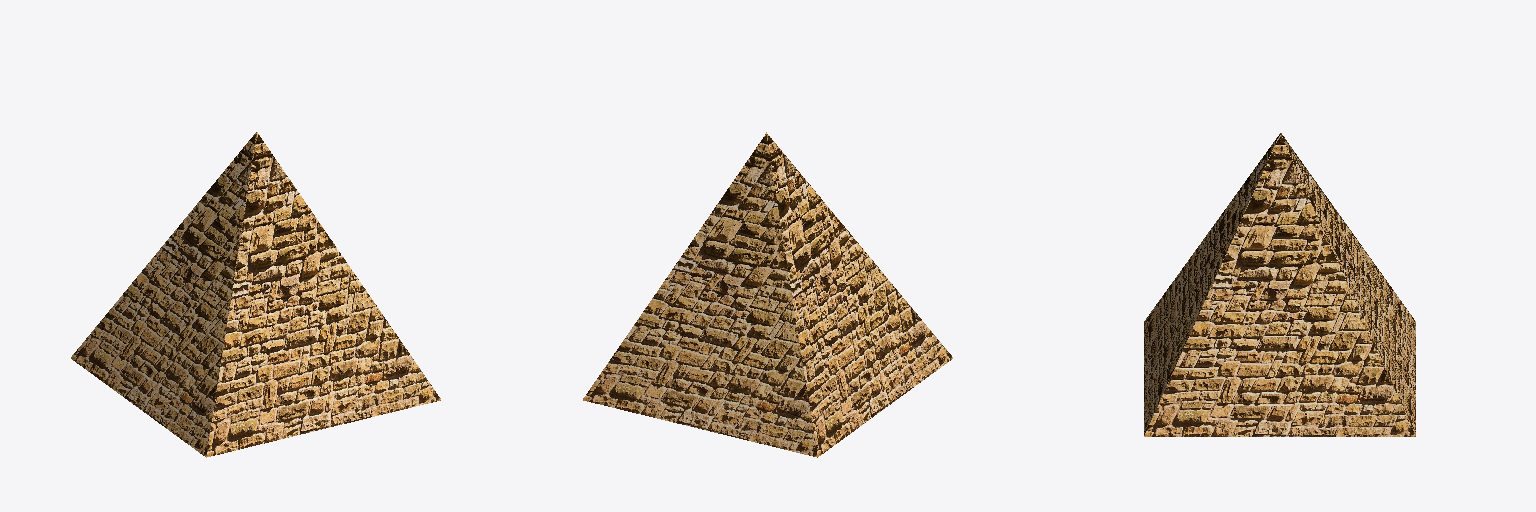
The picture shows the model from 3 angles: view 1: azimuth 30°, elevation 25°; view 2: azimuth 150°, elevation 25°; view 3: azimuth 270°, elevation 25°; orthographic projection.
Parts seen in each view (by area): view 1: Box; view 2: Box; view 3: Box.
Part boxes in pixels (left/top/right/bottom): Box: left=71, top=132, right=440, bottom=457; Box: left=583, top=132, right=952, bottom=457; Box: left=1144, top=133, right=1415, bottom=436.
Bounding box in the file's own units: 19.52 × 19.52 × 19.52.
1 materials, 1 textured.